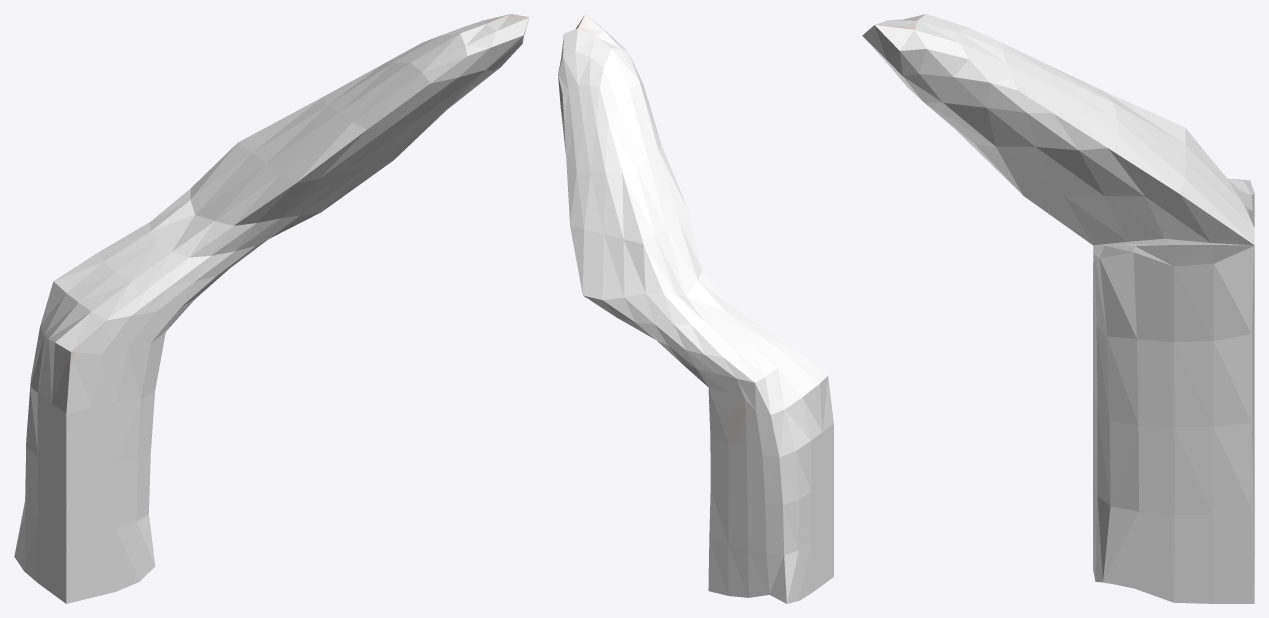
3 renders of one model, left to right at view 1: azimuth 30°, elevation 25°; view 2: azimuth 150°, elevation 25°; view 3: azimuth 270°, elevation 25°, orthographic. The views are drawn at different scales.
Parts seen in each view (by area): view 1: Shape_IndexedFaceSet; view 2: Shape_IndexedFaceSet; view 3: Shape_IndexedFaceSet.
Boxes of the visible parts, x1,y1,x2,y2 form: Shape_IndexedFaceSet: (14,14,529,603); Shape_IndexedFaceSet: (558,14,833,603); Shape_IndexedFaceSet: (862,14,1254,603).
Size of the model in its own units: 7.97 by 4.85 by 10.61.
